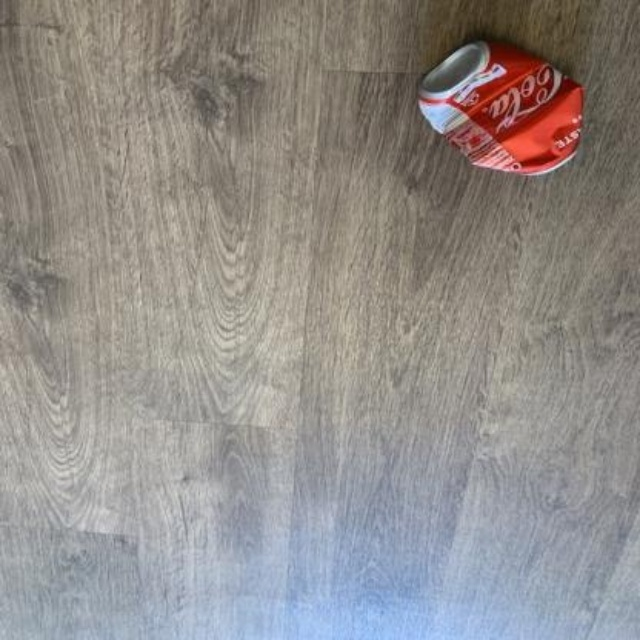trash: (418, 42, 582, 174)
